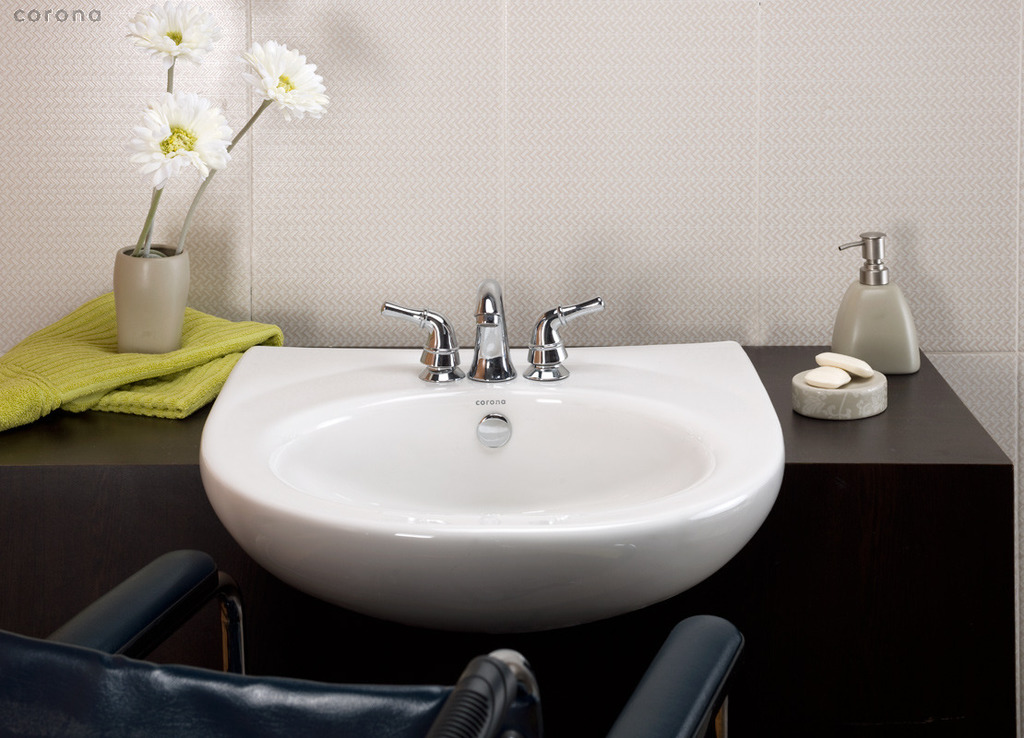tap: (463, 276, 523, 381)
